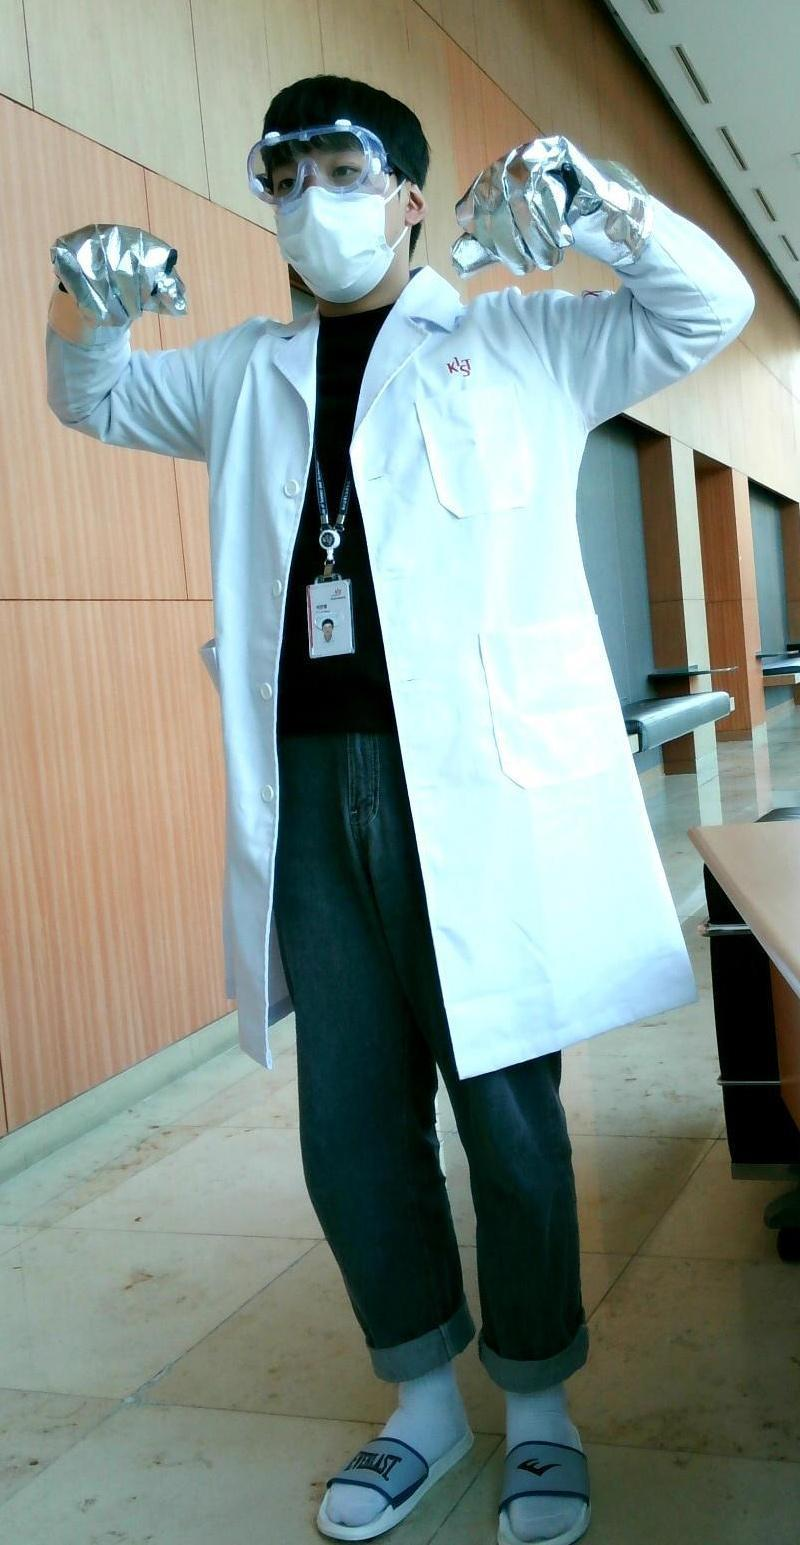lab_coat: (167, 341, 654, 1051)
